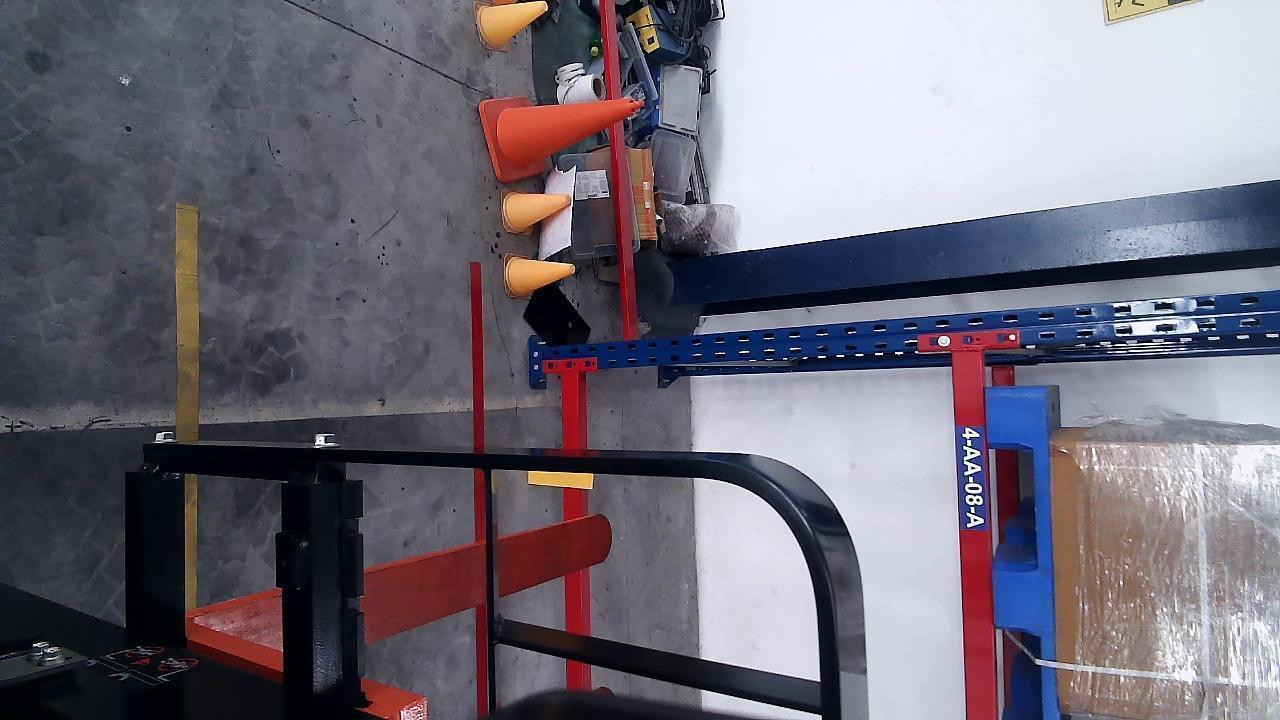red_line: (470, 261, 488, 447)
yellow_line: (173, 205, 202, 443)
